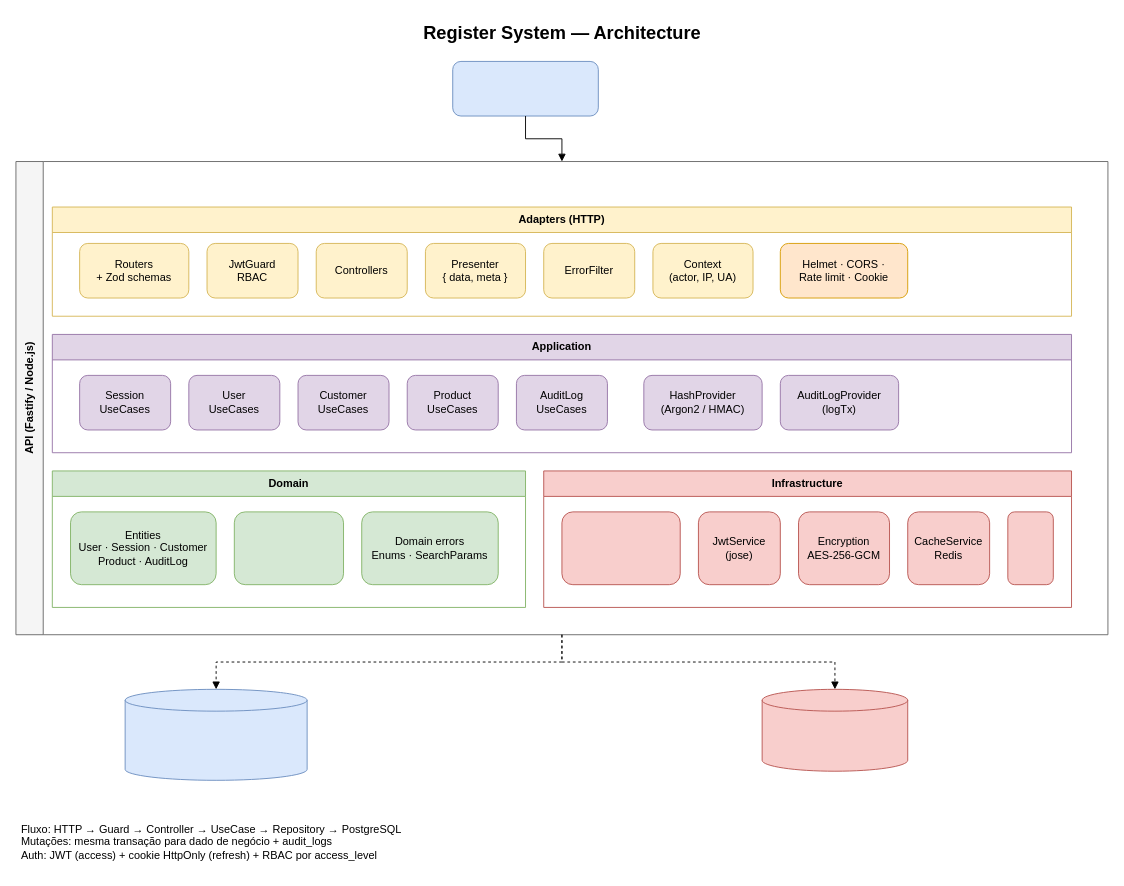
This 1124x886 diagram has some shape labels left out. Each missing label, with the centre of its shape:
Client (Web / HTTP Client): the point at 525,88
EnvService: the point at 1030,548
Persistence Repositories + Models: the point at 620,548
PostgreSQL 17 users · sessions · customers products · audit_logs: the point at 215,734
Redis 7 Rate limit: the point at 834,729
Repository interfaces (ports): the point at 288,548
